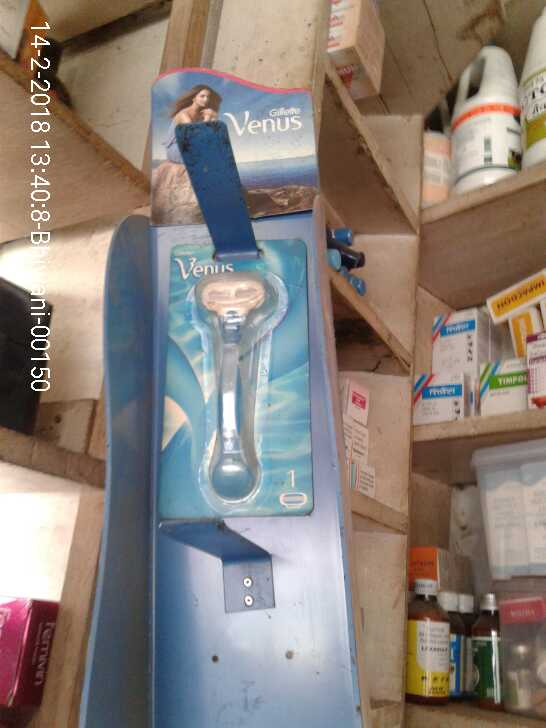venus: (167, 246, 316, 518)
